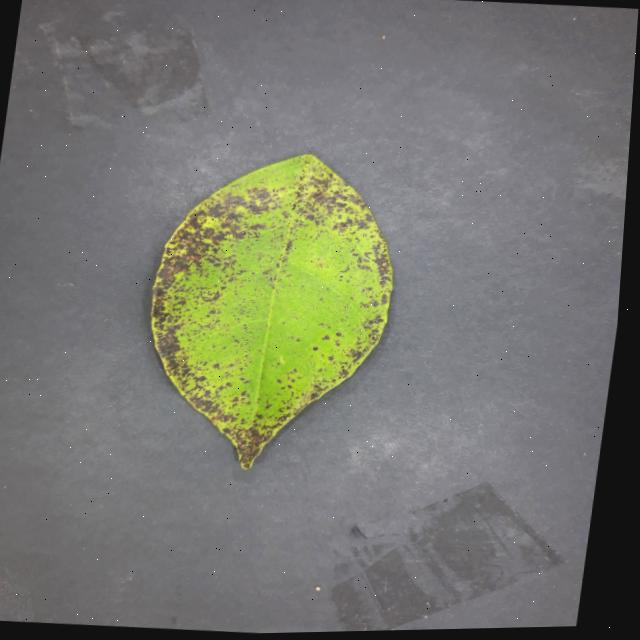greasy_spot: (151, 153, 392, 467)
